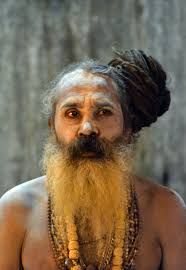no-mask: (36, 60, 143, 181)
